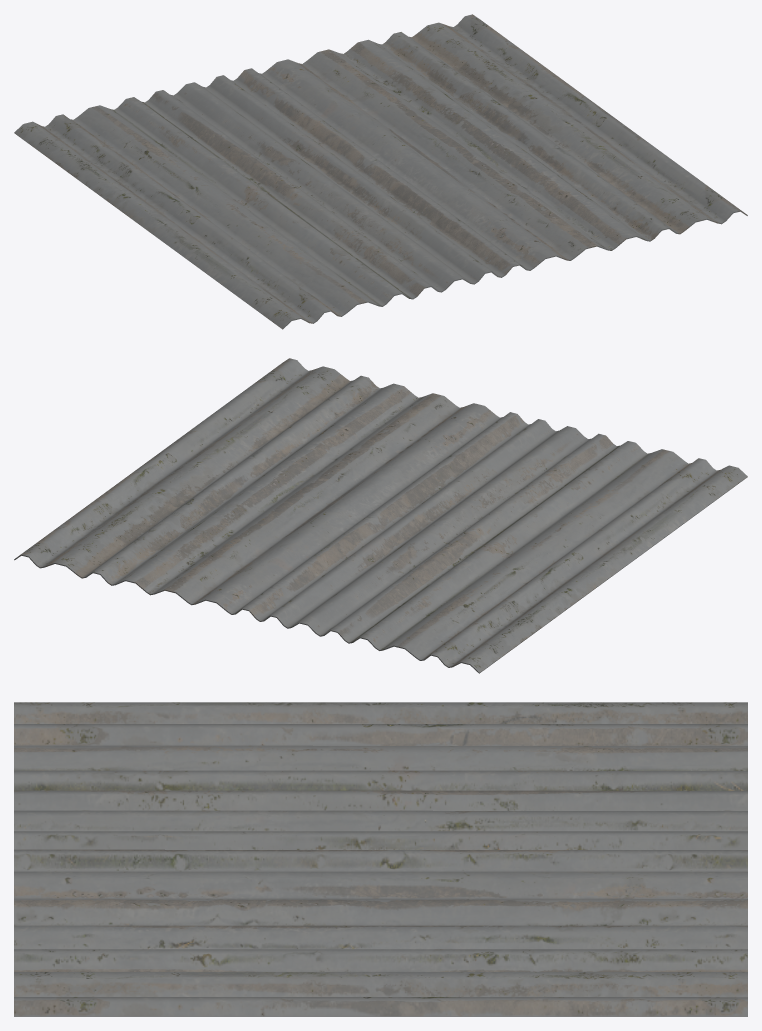
Rendered from Prop_MetalPlate_01.fbx.
The picture shows the model from 3 angles, top to bottom: view 1: azimuth 30°, elevation 25°; view 2: azimuth 150°, elevation 25°; view 3: azimuth 270°, elevation 25°; orthographic projection. The views are drawn at different scales.
Visible parts, largest first — view 1: Prop_MetalPlate_01; view 2: Prop_MetalPlate_01; view 3: Prop_MetalPlate_01.
Boxes of the visible parts, box(x1,y1,x2,y2) form: Prop_MetalPlate_01: box(14, 14, 747, 329); Prop_MetalPlate_01: box(14, 358, 747, 673); Prop_MetalPlate_01: box(14, 702, 747, 1016).
Size of the model in its own units: 111 by 2.11 by 110.
